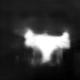plane: (20, 27, 72, 64)
